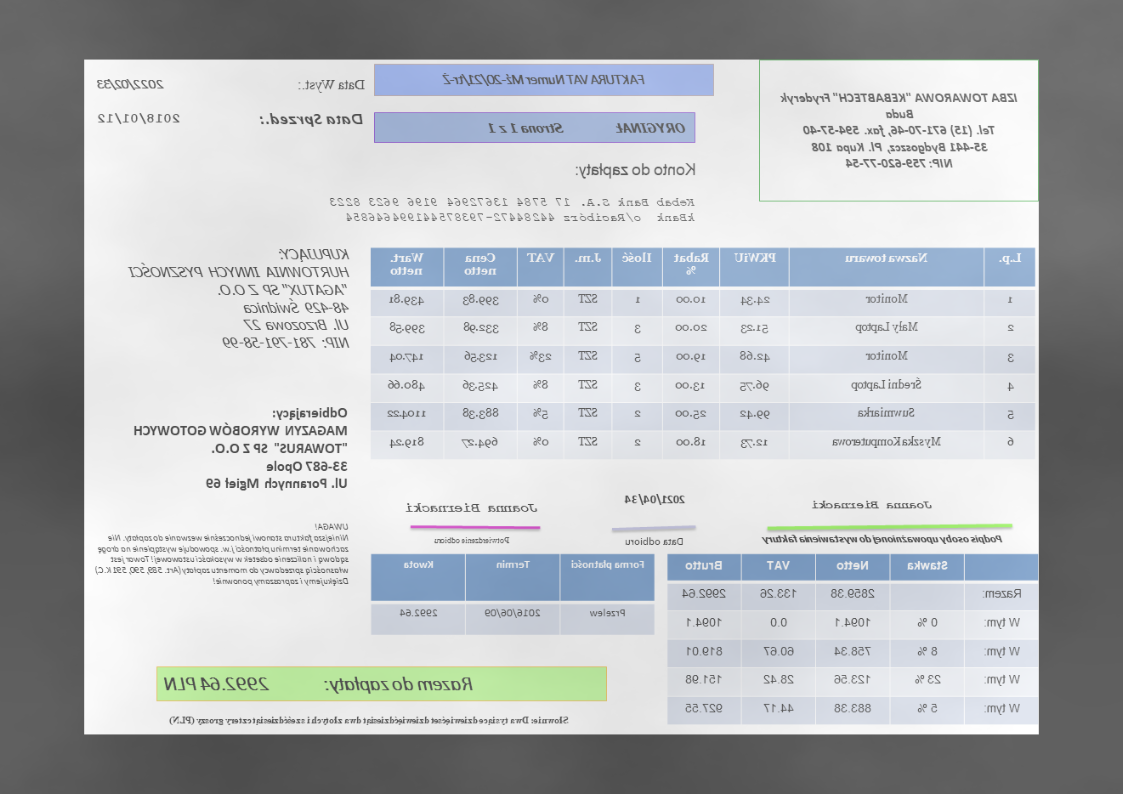Table: (370, 247, 1037, 460), (666, 553, 1038, 725), (371, 553, 655, 636)
TextBox: (127, 245, 352, 351), (778, 90, 1019, 172), (132, 405, 349, 493), (93, 519, 350, 587), (326, 195, 696, 225), (162, 674, 475, 696), (168, 713, 571, 728), (763, 531, 1005, 546), (440, 71, 647, 88), (485, 119, 688, 135), (573, 160, 698, 181), (259, 110, 365, 129), (405, 501, 540, 515), (811, 498, 933, 512), (95, 110, 183, 126), (94, 77, 168, 92), (623, 491, 688, 508), (298, 77, 367, 93), (433, 535, 511, 546), (625, 536, 686, 547)
